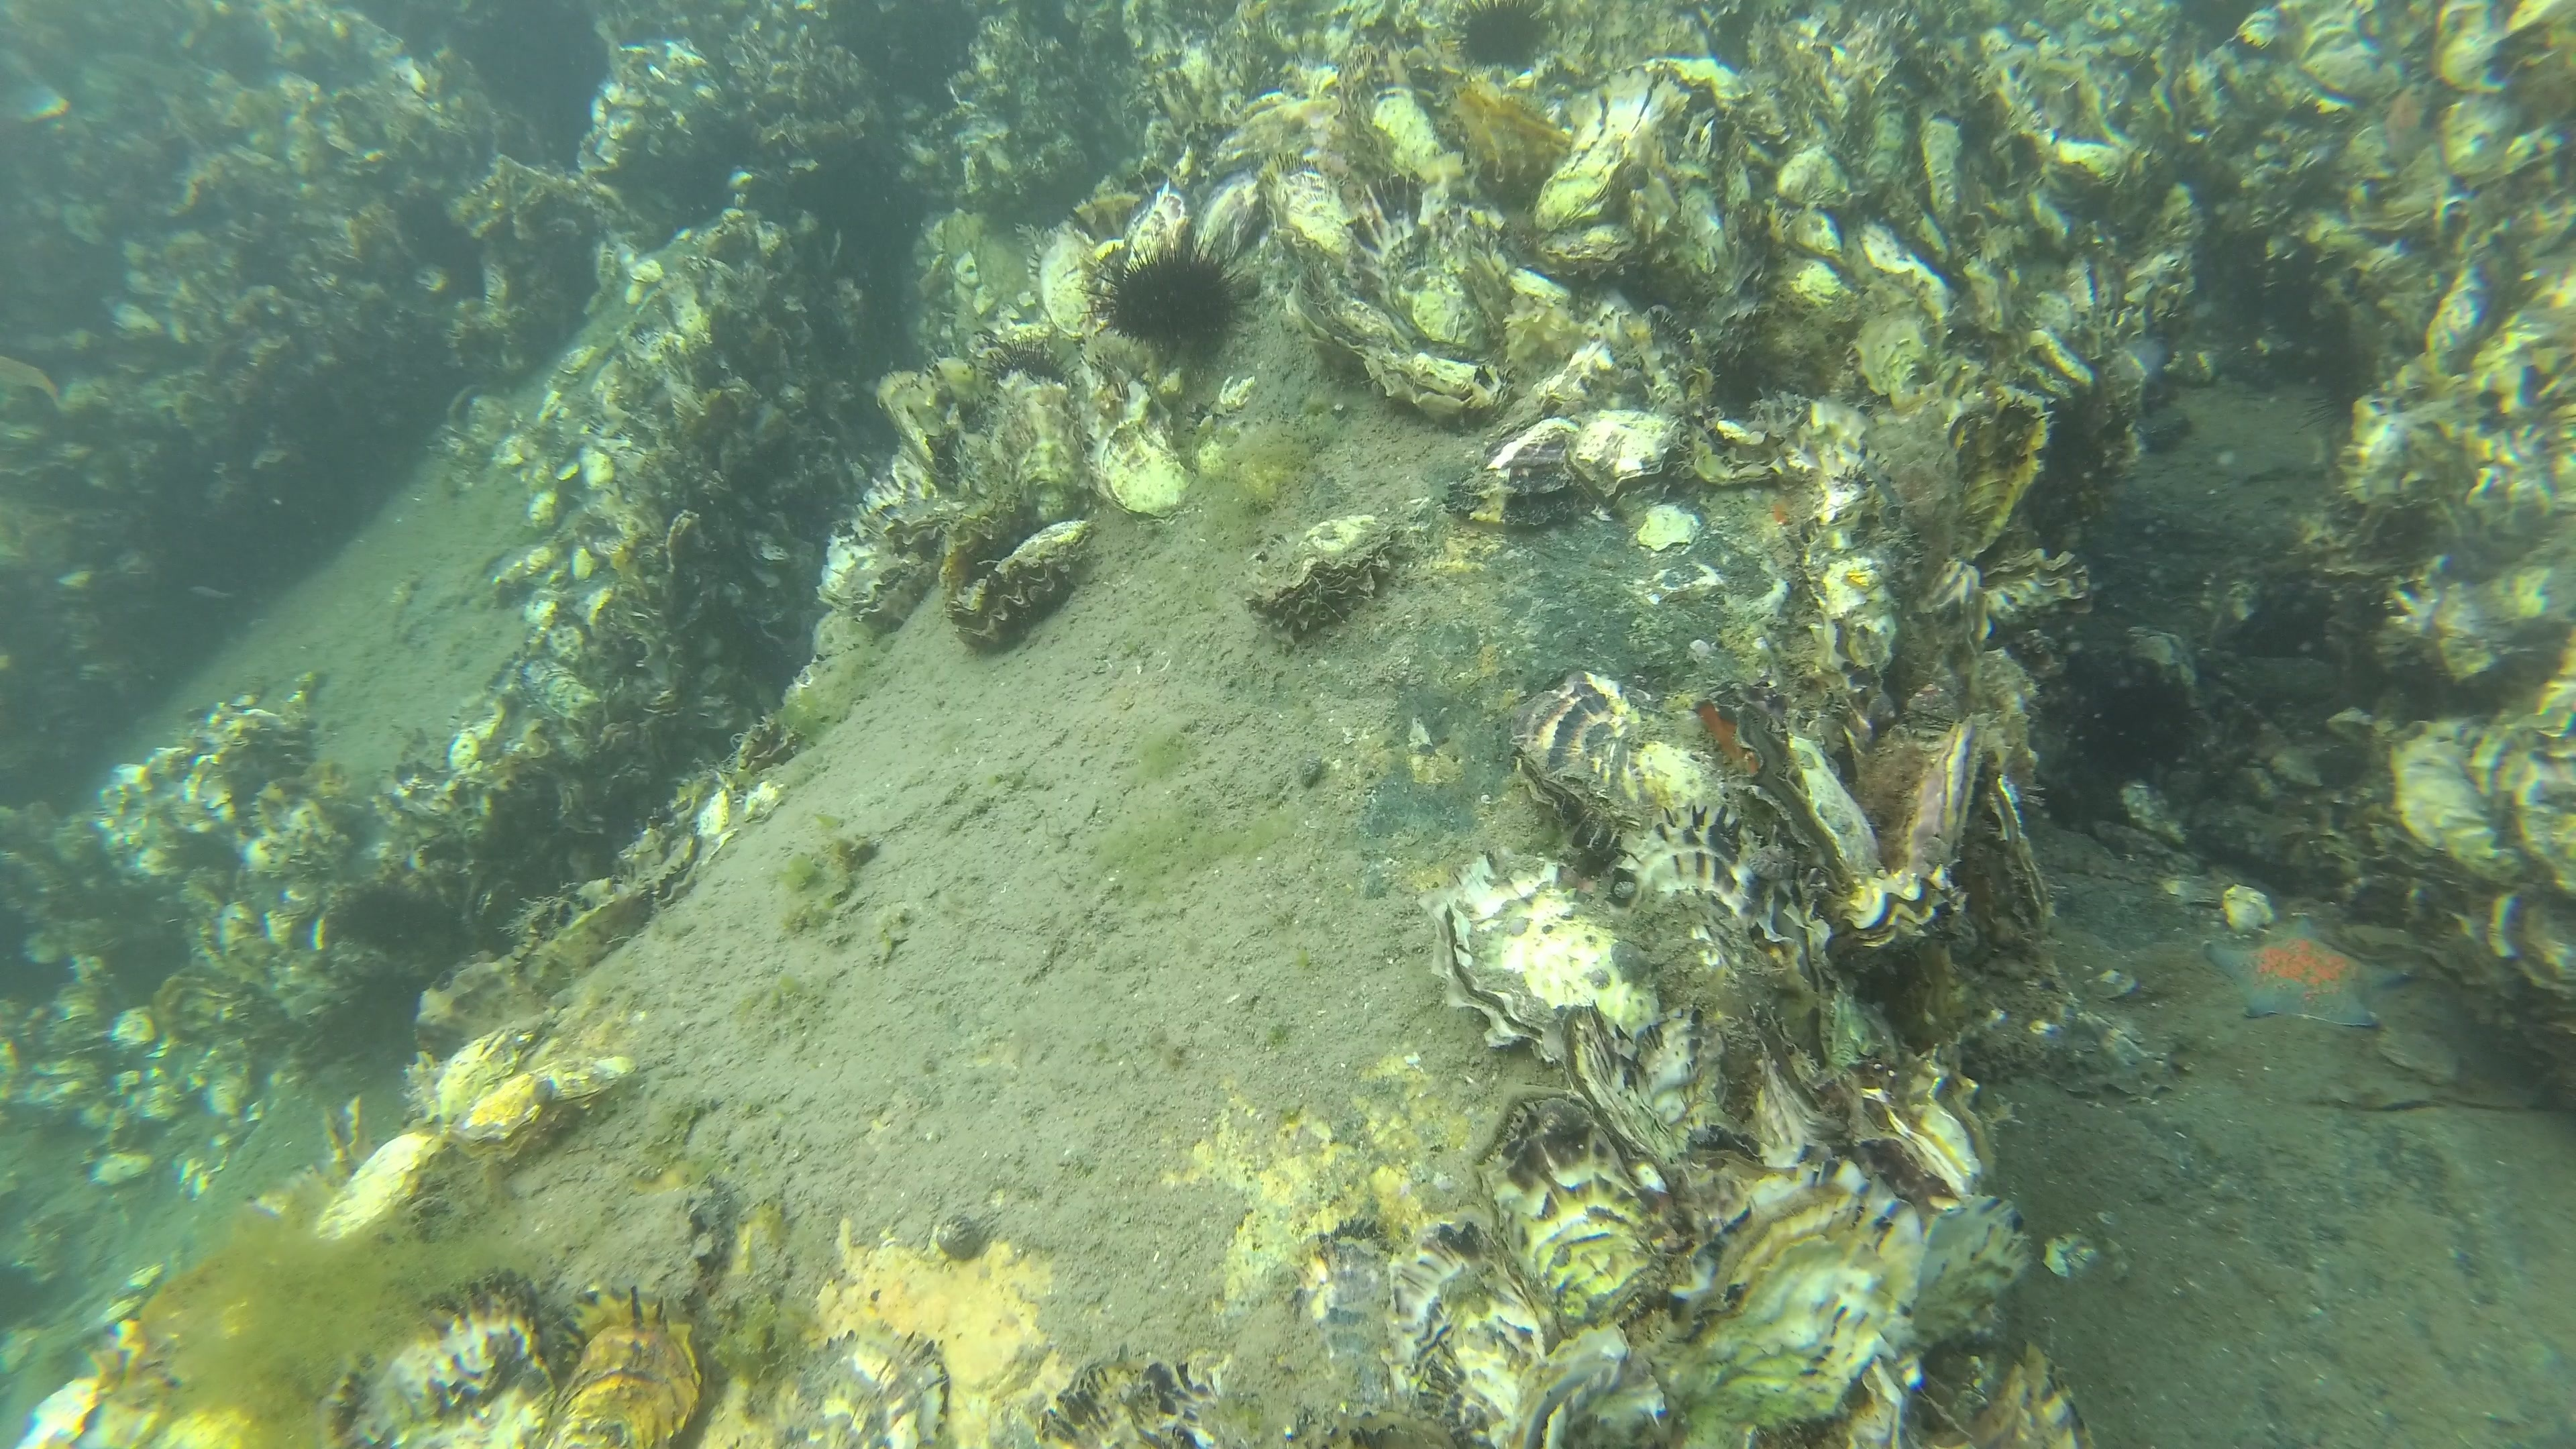echinus: (1086, 230, 1258, 370), (1444, 4, 1559, 78), (970, 331, 1079, 395)
starfish: (2203, 908, 2417, 1033), (2380, 81, 2440, 172)
